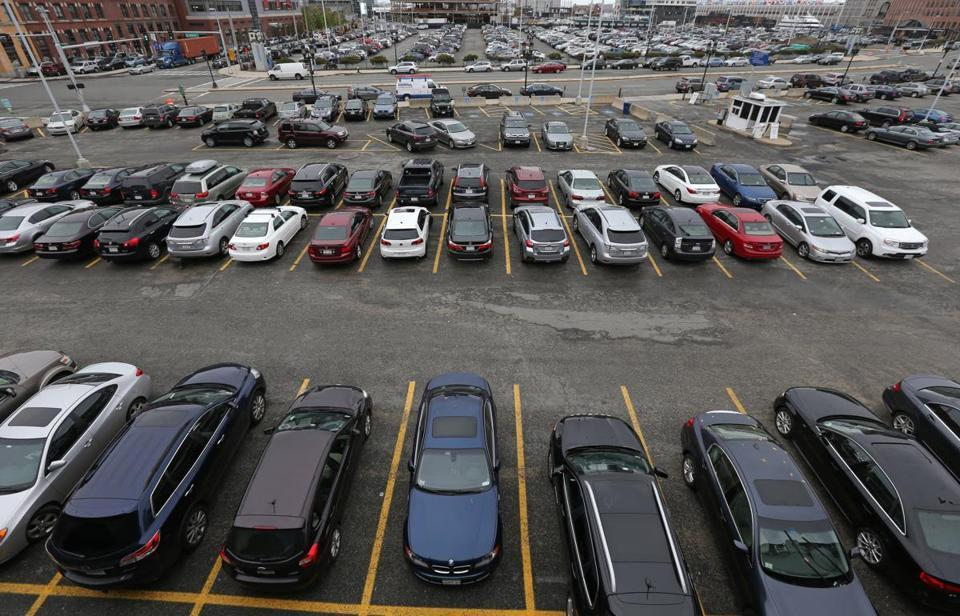empyt_space: (531, 99, 570, 120), (450, 103, 492, 120), (507, 103, 545, 120), (394, 105, 432, 121)
